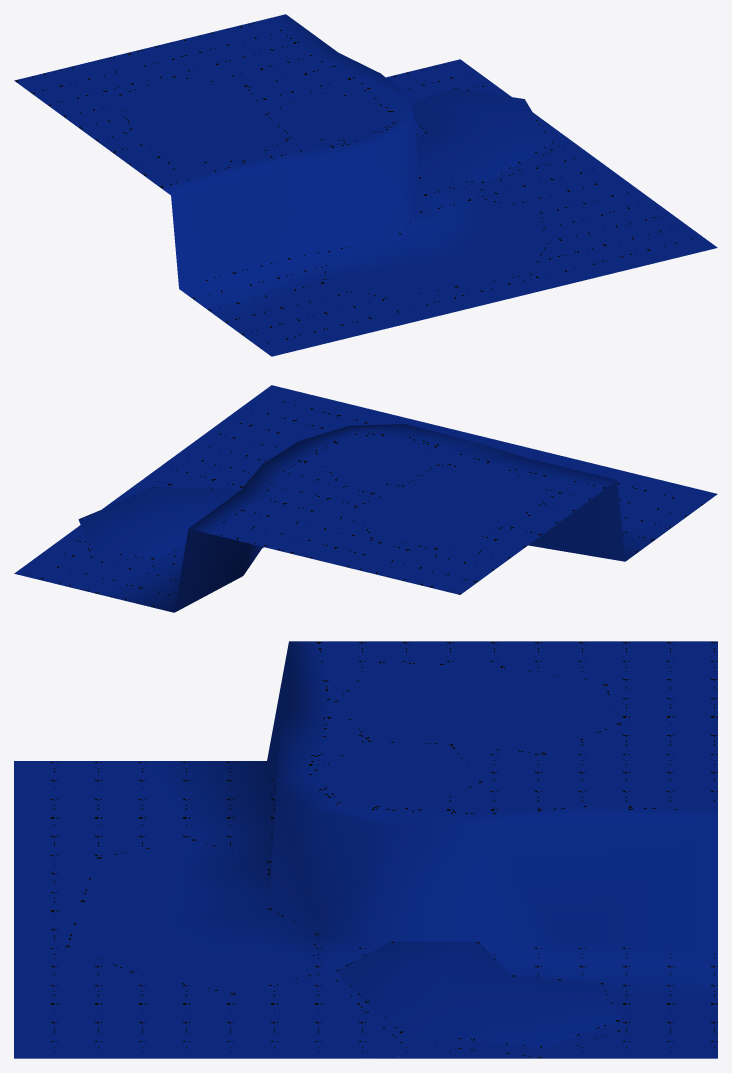
The model's file is GRD_S_C2_1.fbx.
3 renders of one model, top to bottom at view 1: azimuth 30°, elevation 25°; view 2: azimuth 150°, elevation 25°; view 3: azimuth 270°, elevation 25°, orthographic. The views are drawn at different scales.
Parts seen in each view (by area): view 1: material_00022000, material_00042000, material_C0052000, material_C0012000, material_C0032000, material_C0062000; view 2: material_00022000, material_00042000, material_C0052000, material_C0012000, material_C0032000, material_C0062000; view 3: material_00022000, material_00042000, material_C0052000, material_C0012000, material_C0032000, material_C0062000.
Boxes of the visible parts, <box> form: material_00022000: <box>14,19,717,356</box>; material_00042000: <box>159,14,419,288</box>; material_C0052000: <box>118,75,546,299</box>; material_C0012000: <box>411,88,553,182</box>; material_C0032000: <box>268,92,396,141</box>; material_C0062000: <box>416,123,553,190</box>; material_00022000: <box>14,385,717,612</box>; material_00042000: <box>174,424,625,612</box>; material_C0052000: <box>353,465,554,549</box>; material_C0012000: <box>78,487,240,559</box>; material_C0032000: <box>314,434,440,485</box>; material_C0062000: <box>78,525,185,566</box>; material_00022000: <box>14,641,717,1058</box>; material_00042000: <box>267,641,717,951</box>; material_C0052000: <box>65,661,622,995</box>; material_C0012000: <box>334,941,621,1048</box>; material_C0032000: <box>312,740,483,810</box>; material_C0062000: <box>334,978,621,1058</box>.
Size of the model in its own units: 12801 by 2400 by 12800.
